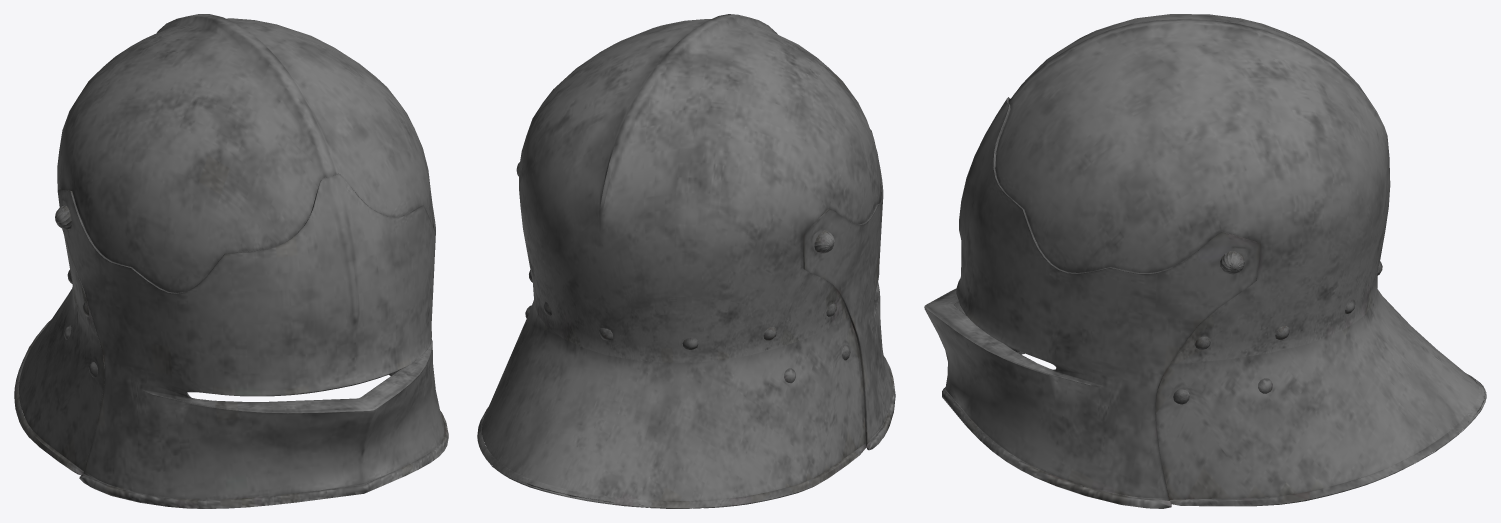
The model's file is italian-sallet.glb.
3 renders of one model, left to right at view 1: azimuth 30°, elevation 25°; view 2: azimuth 150°, elevation 25°; view 3: azimuth 270°, elevation 25°, orthographic. The views are drawn at different scales.
Visible parts, largest first — view 1: PIECE_italian-sallet; view 2: PIECE_italian-sallet; view 3: PIECE_italian-sallet.
Boxes of the visible parts, bbox=[...] form: PIECE_italian-sallet: bbox=[14, 14, 448, 508]; PIECE_italian-sallet: bbox=[477, 14, 895, 508]; PIECE_italian-sallet: bbox=[924, 14, 1486, 508].
Size of the model in its own units: 0.9994 by 1.12 by 1.41.
1 material, 1 textured.
